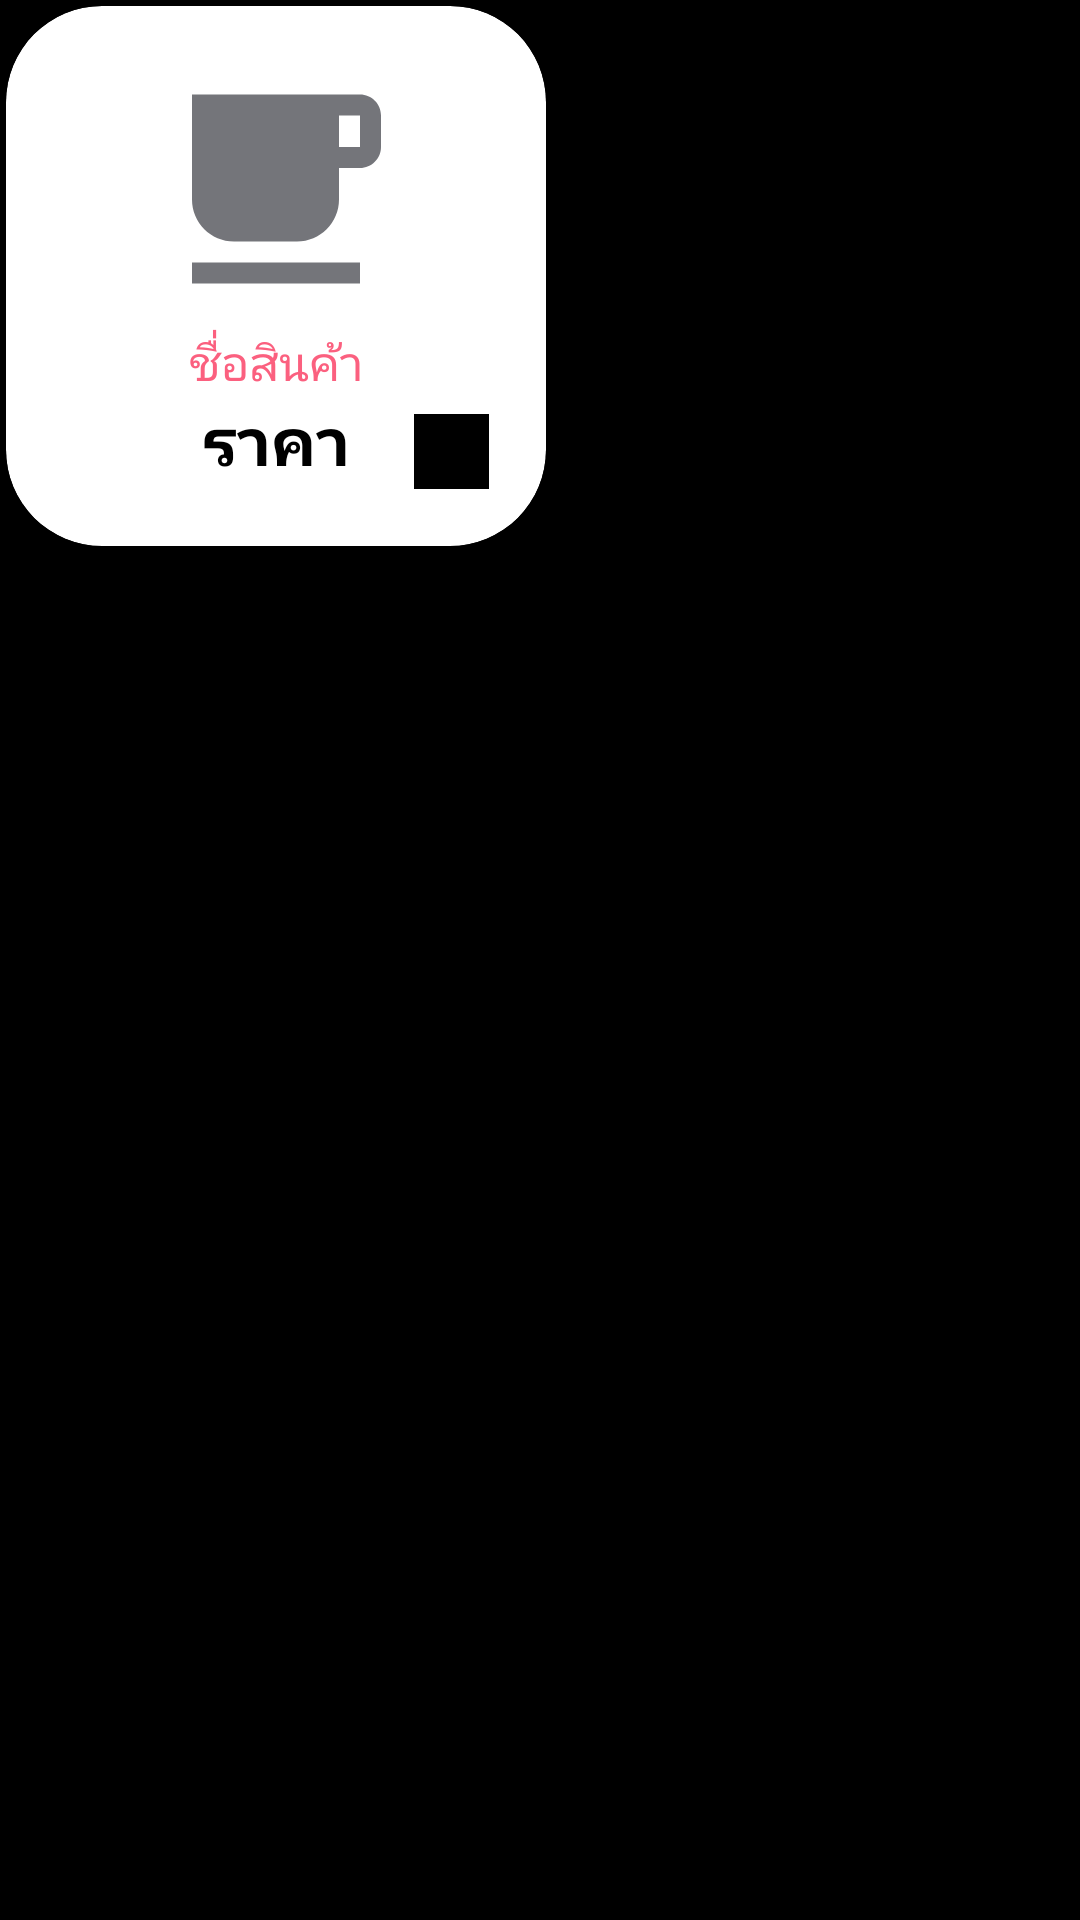

Locate icon controls on the screen. Image size 1080 × 1920, boxes as (left=x1, top=y1, right=x2, bottom=y2).
free breakfast: (left=192, top=94, right=381, bottom=284)
